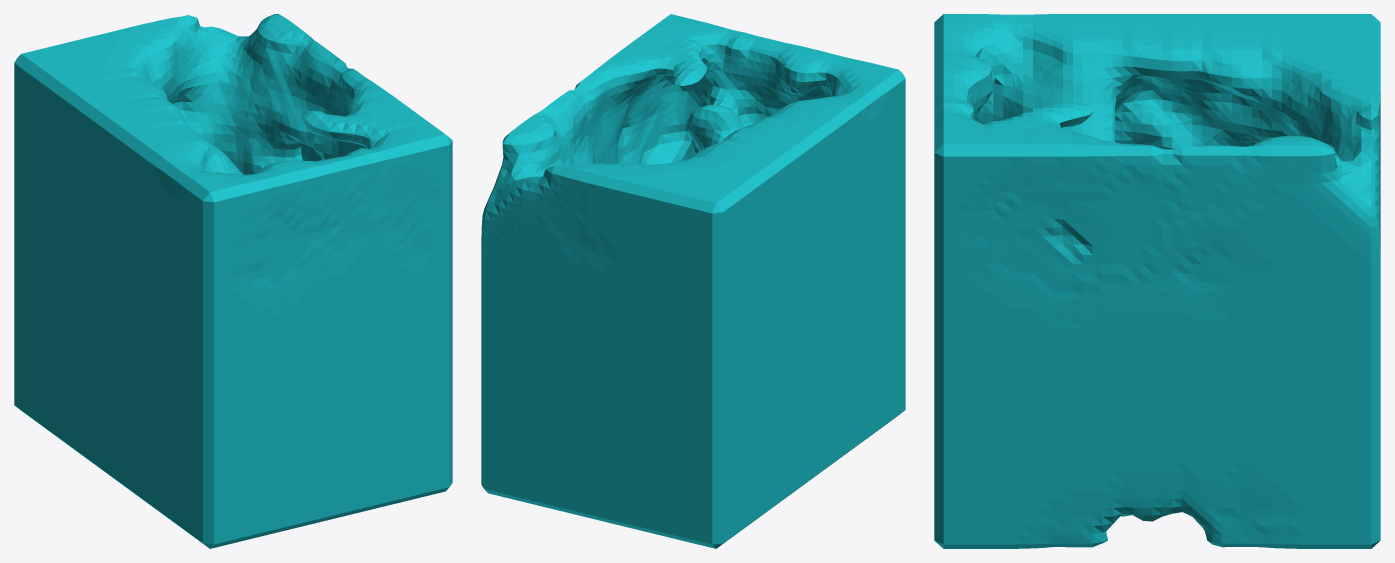
3 views of the same model, side by side, from view 1: azimuth 30°, elevation 25°; view 2: azimuth 150°, elevation 25°; view 3: azimuth 270°, elevation 25° (orthographic). The views are drawn at different scales.
Parts seen in each view (by area): view 1: Liquid_Domain; view 2: Liquid_Domain; view 3: Liquid_Domain.
Boxes of the visible parts, x1,y1,x2,y2 form: Liquid_Domain: (14,14,452,548); Liquid_Domain: (481,14,905,548); Liquid_Domain: (934,14,1380,548).
Bounding box in the file's own units: 79.09 × 108 × 108.
